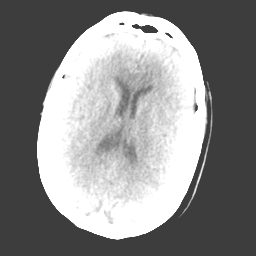ischemic: (138, 39, 185, 150)
